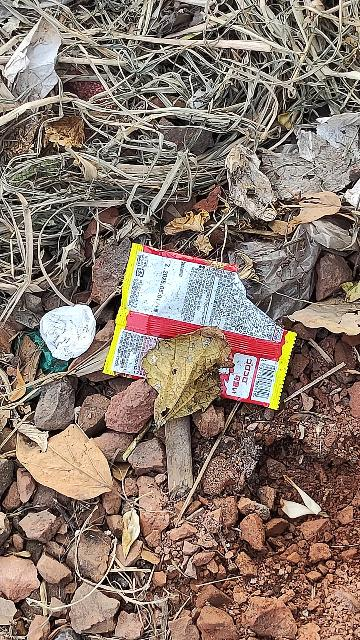packet: (123, 238, 291, 401)
